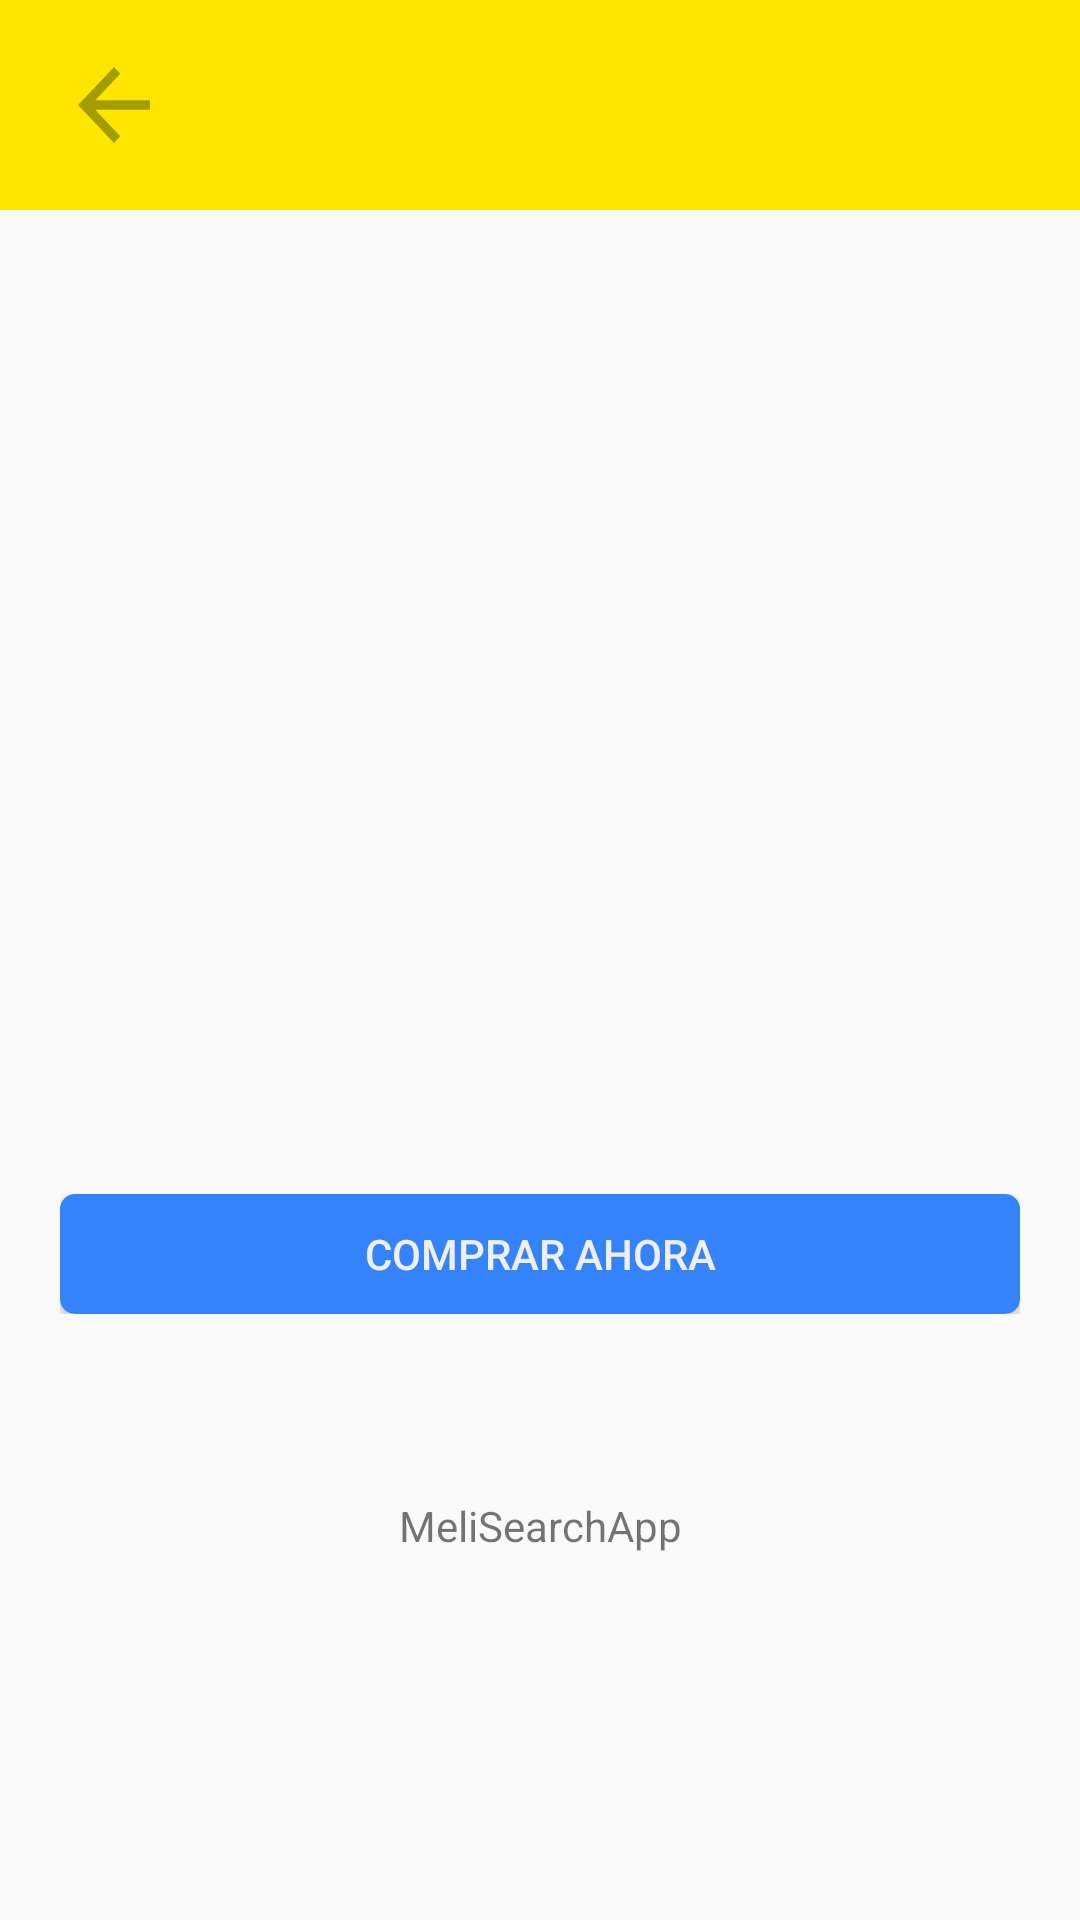

Screen size 1080*1920. Icon name, then its box in pixels as (x1, y1, x2, y2):
arrow back: (78, 67, 150, 143)
